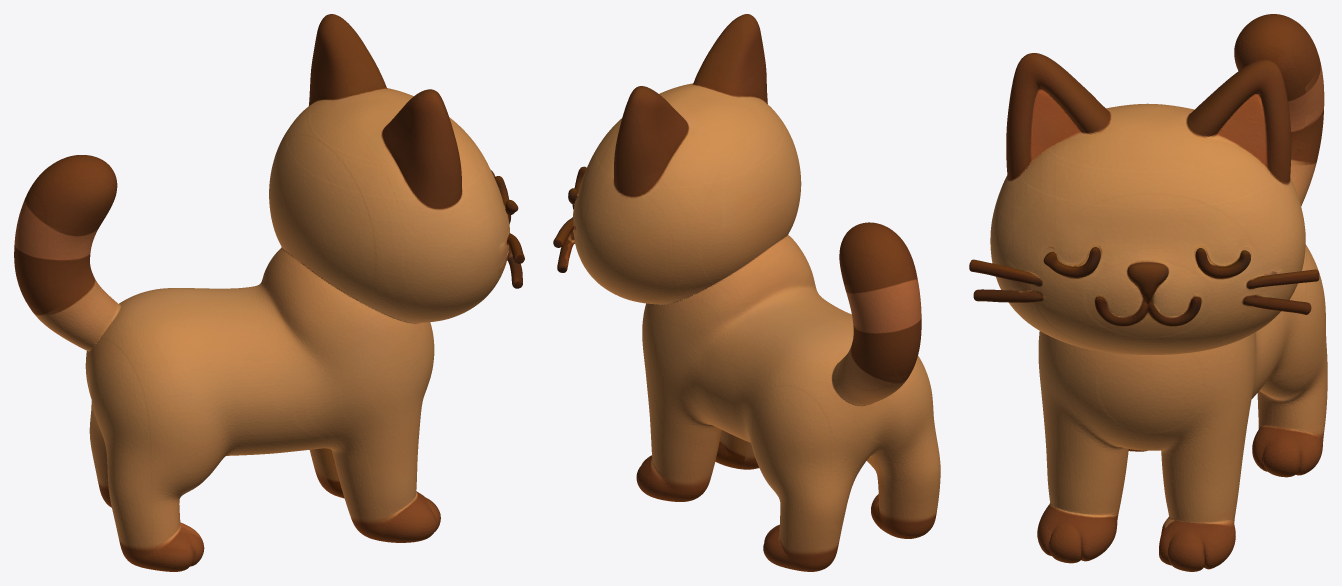
The model's file is CAT.glb.
3 renders of one model, left to right at view 1: azimuth 30°, elevation 25°; view 2: azimuth 150°, elevation 25°; view 3: azimuth 270°, elevation 25°, orthographic. The views are drawn at different scales.
Visible parts, largest first — view 1: tripo_node_4a2a4a38-62d2-4313-8bb3-4e697e78d8a7; view 2: tripo_node_4a2a4a38-62d2-4313-8bb3-4e697e78d8a7; view 3: tripo_node_4a2a4a38-62d2-4313-8bb3-4e697e78d8a7.
Boxes of the visible parts, x1=… form: tripo_node_4a2a4a38-62d2-4313-8bb3-4e697e78d8a7: x1=14, y1=14, x2=524, y2=571; tripo_node_4a2a4a38-62d2-4313-8bb3-4e697e78d8a7: x1=553, y1=14, x2=940, y2=571; tripo_node_4a2a4a38-62d2-4313-8bb3-4e697e78d8a7: x1=969, y1=14, x2=1327, y2=571.
Size of the model in its own units: 0.9396 by 1 by 0.6447.
1 material, 1 textured.
